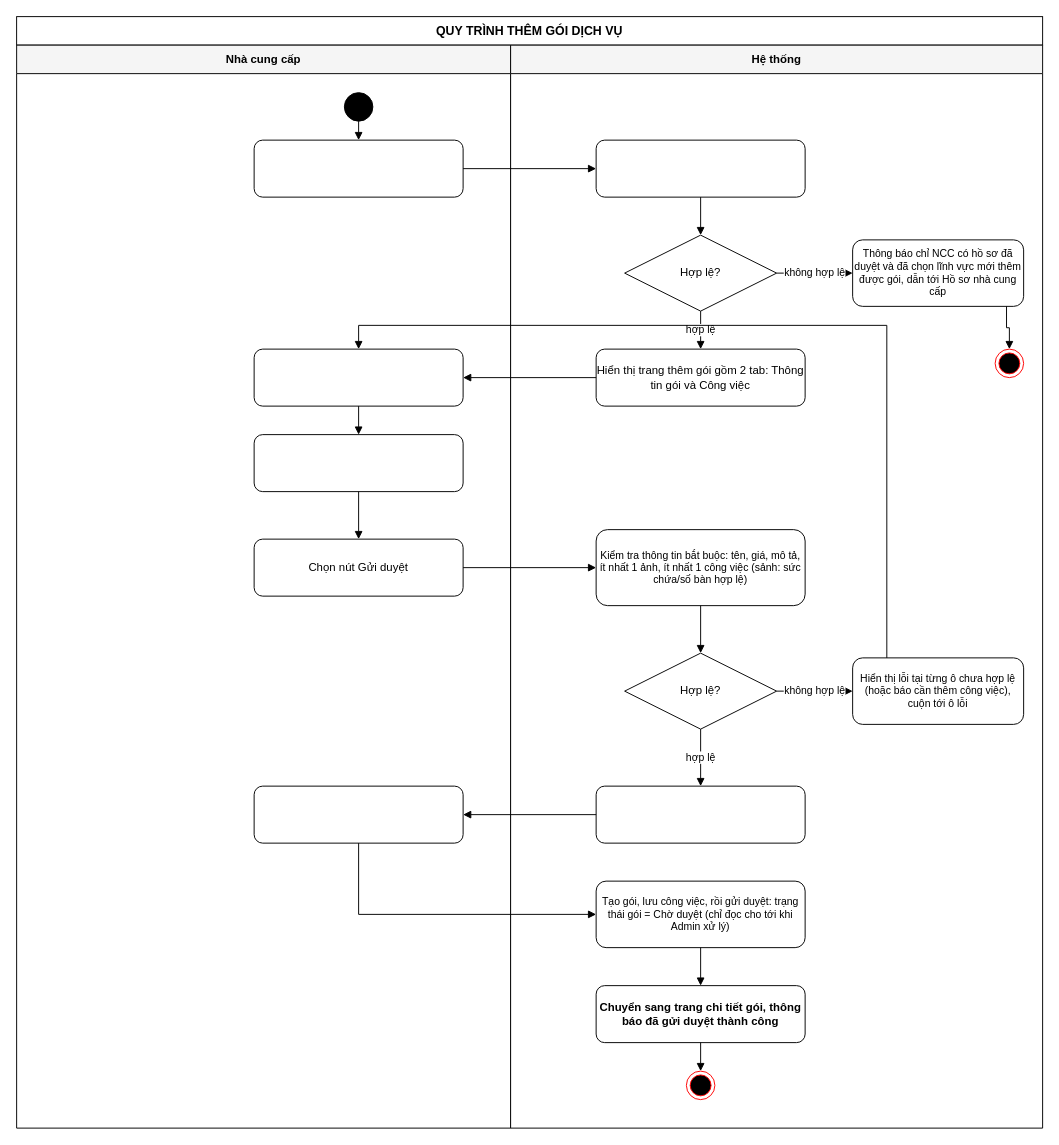
The diagram is 1059 pixels wide and 1145 high, and some of its shapes have lost their labels. Here are the shapes that lost their labels. From the top down, the centre of each, then its label:
point (358, 168): Tại màn hình Quản lý gói dịch vụ, chọn Thêm gói dịch vụ
point (700, 168): Kiểm tra hồ sơ NCC đã được duyệt và đã chọn lĩnh vực cung cấp
point (358, 377): Nhập thông tin gói (tên, giá, mô tả, ảnh...) ở tab Thông tin gói
point (358, 463): Mở tab Công việc, thêm công việc của gói
point (358, 814): Chọn Gửi duyệt
point (700, 814): Hiển thị popup xác nhận gửi duyệt
